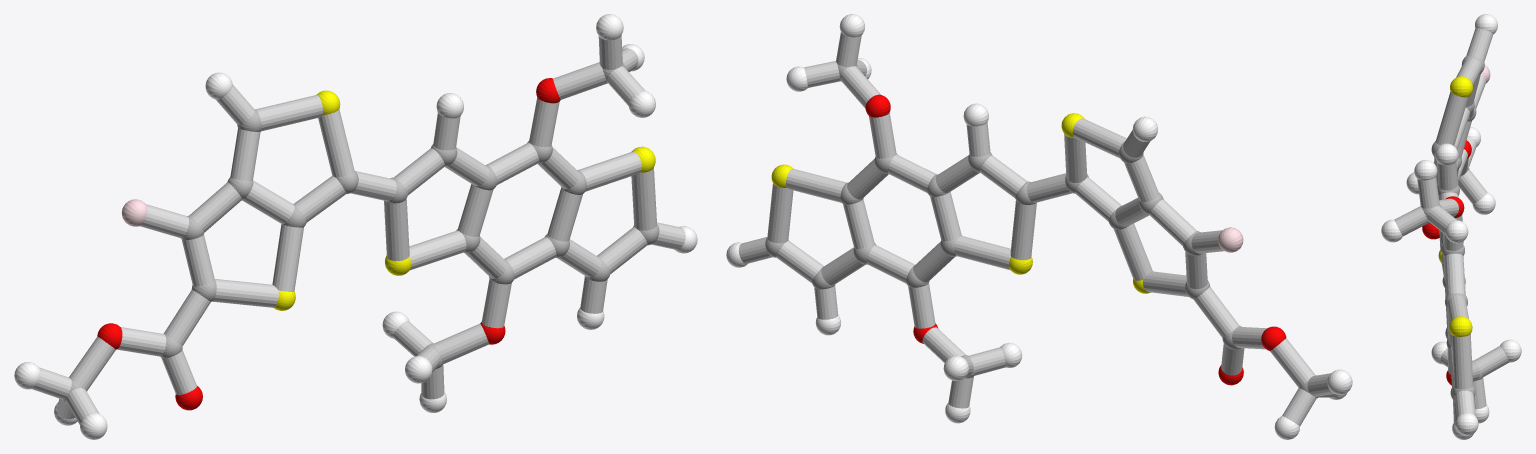
Rendered from Dimethoxy_Benzodithiophene_Phi_20_Theta_10_Methylcarbonyl_3_Fluoro_Thienothiophene.glb.
3 renders of one model, left to right at view 1: azimuth 30°, elevation 25°; view 2: azimuth 150°, elevation 25°; view 3: azimuth 270°, elevation 25°, orthographic. The views are drawn at different scales.
Visible parts, largest first — view 1: grp15205, grp8689, grp1, grp13395, grp7241; view 2: grp15205, grp8689, grp1, grp13395, grp7241; view 3: grp15205, grp8689, grp1, grp7241, grp13395.
Boxes of the visible parts, x1,y1,x2,y2 form: grp15205: [32, 35, 685, 424]; grp8689: [14, 14, 697, 439]; grp1: [62, 62, 659, 403]; grp13395: [97, 78, 560, 410]; grp7241: [274, 90, 655, 310]; grp15205: [738, 32, 1338, 426]; grp8689: [726, 14, 1352, 439]; grp1: [765, 64, 1319, 398]; grp13395: [865, 94, 1286, 385]; grp7241: [771, 113, 1150, 293]; grp15205: [1394, 28, 1509, 425]; grp8689: [1381, 14, 1521, 439]; grp1: [1422, 55, 1484, 401]; grp7241: [1438, 76, 1472, 336]; grp13395: [1422, 140, 1471, 385].
Bounding box in the file's own units: 17 × 9.23 × 3.64.
